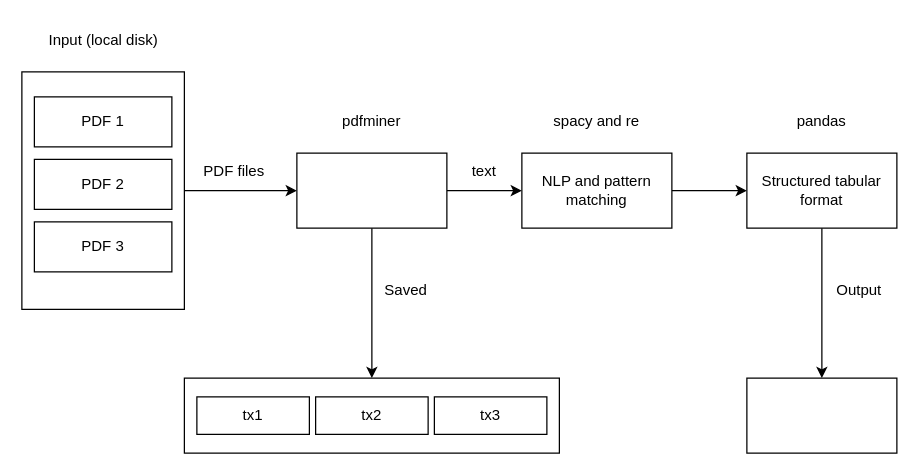
Image size: 919x475. Some labels were removed from this diagram. Here are the shapes that lost their labels. From the top down, the centre of each, then its label:
At (371,190): "PDF to text".
At (821,415): "CSV".
